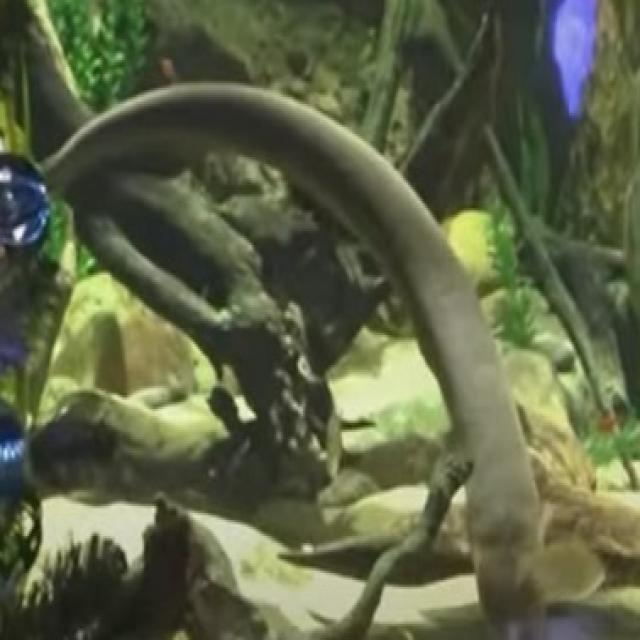Freshwater-Eel: (22, 43, 548, 615)
